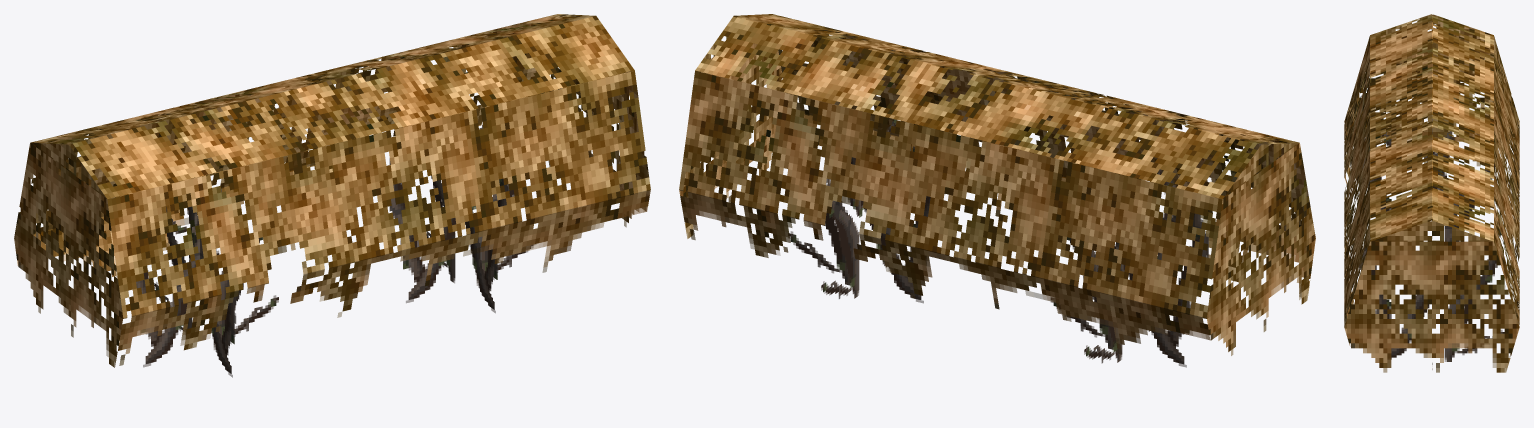
Rendered from bush_long_roots_autumn.glb.
3 renders of one model, left to right at view 1: azimuth 30°, elevation 25°; view 2: azimuth 150°, elevation 25°; view 3: azimuth 270°, elevation 25°, orthographic. The views are drawn at different scales.
Visible parts, largest first — view 1: bush_long_roots_autumn; view 2: bush_long_roots_autumn; view 3: bush_long_roots_autumn.
Boxes of the visible parts, x1=… form: bush_long_roots_autumn: x1=14, y1=14, x2=650, y2=377; bush_long_roots_autumn: x1=679, y1=14, x2=1315, y2=367; bush_long_roots_autumn: x1=1344, y1=14, x2=1519, y2=372.
Size of the model in its own units: 2.01 by 0.8765 by 0.7191.
Materials: 2 (2 with a texture image).
